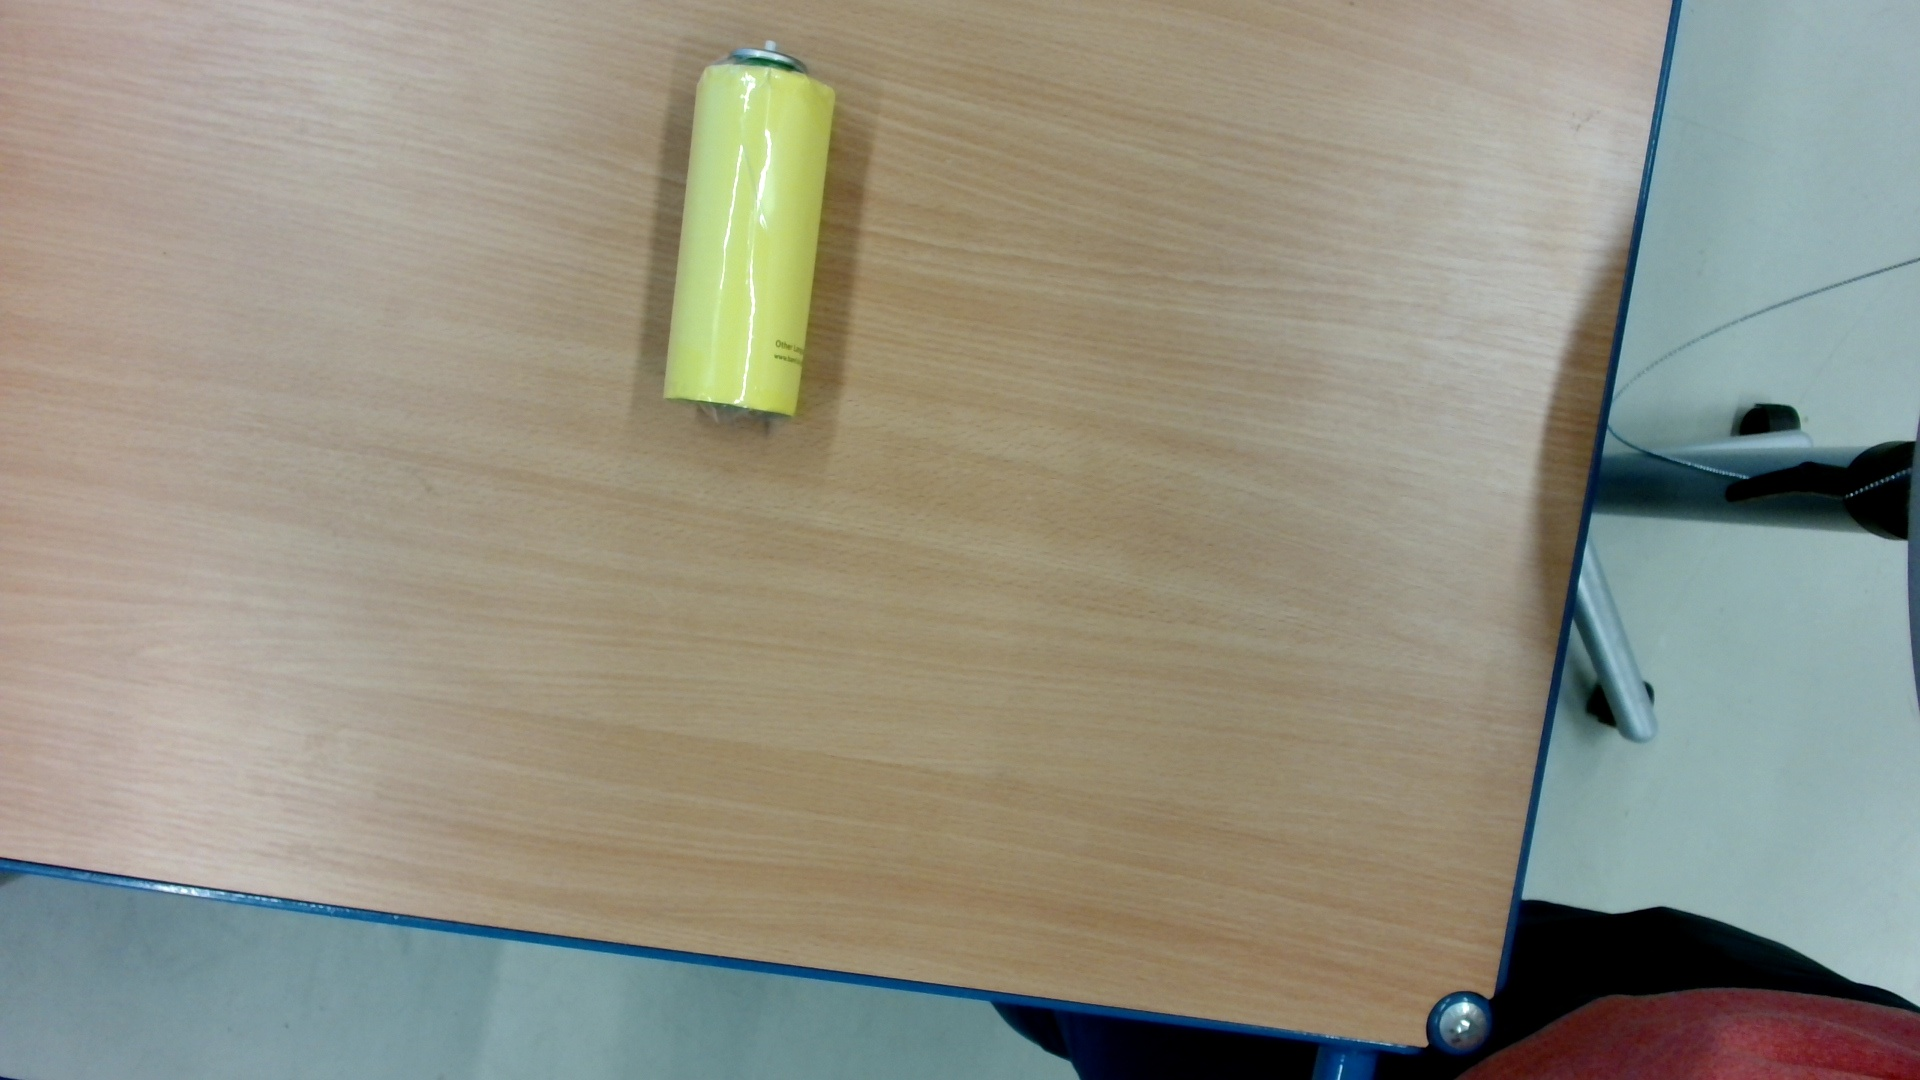Cylinder: (653, 26, 847, 452)
